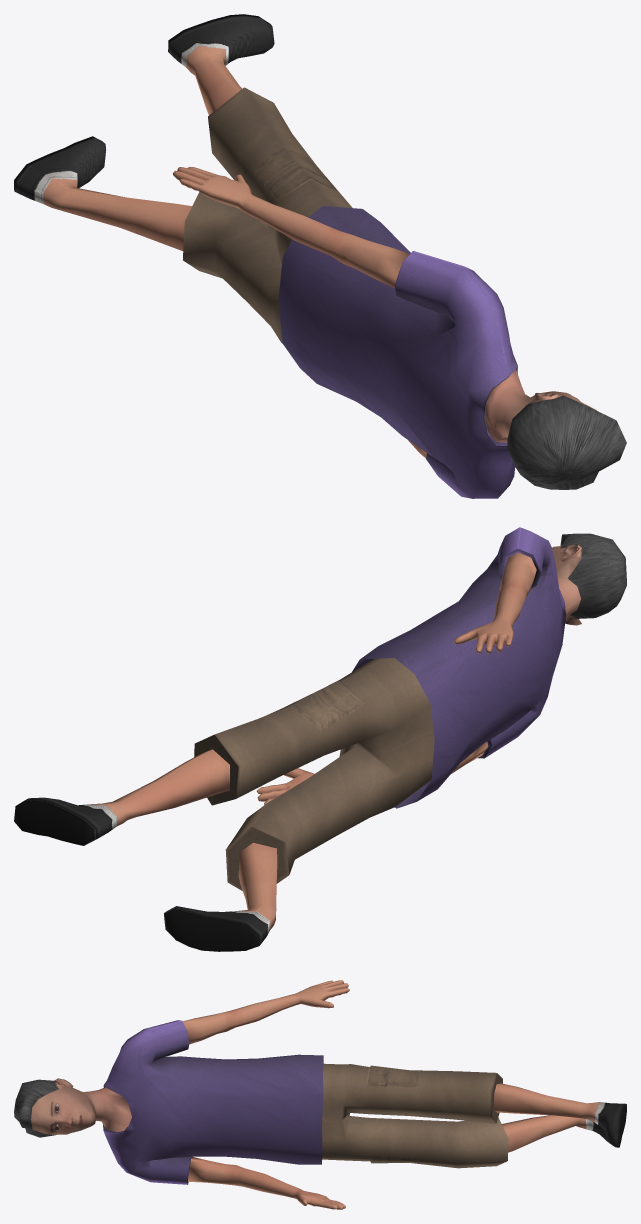
The model's file is walk.obj.
3 renders of one model, top to bottom at view 1: azimuth 30°, elevation 25°; view 2: azimuth 150°, elevation 25°; view 3: azimuth 270°, elevation 25°, orthographic. The views are drawn at different scales.
Bounding box in the file's own units: 0.6637 × 0.4974 × 1.76.
1 material, 1 textured.
